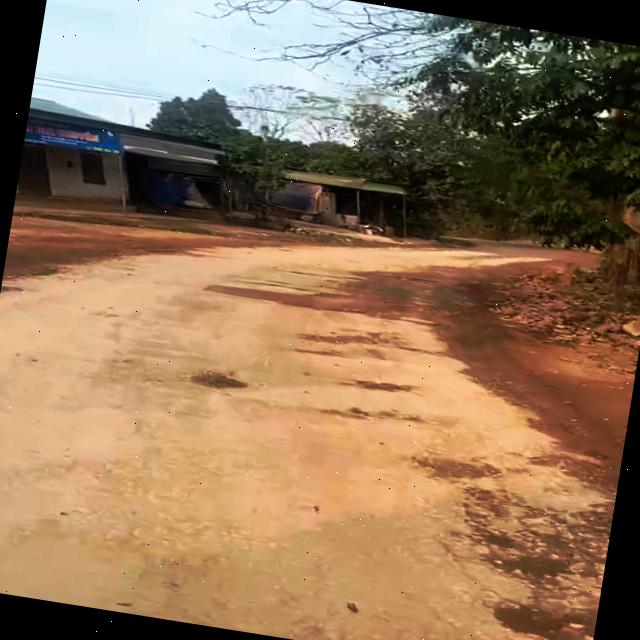pothole: (392, 449, 618, 640)
